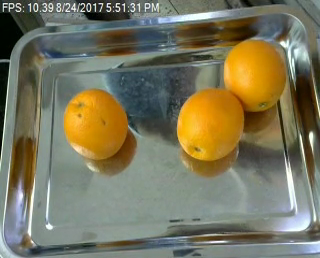Orange: (176, 87, 247, 160), (223, 38, 287, 112), (63, 87, 128, 159)
